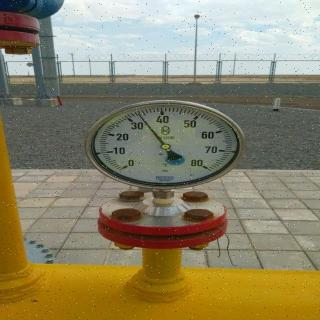gauge: (84, 95, 248, 189), (190, 158, 216, 174), (116, 158, 136, 174), (134, 108, 142, 118), (162, 144, 170, 150)
